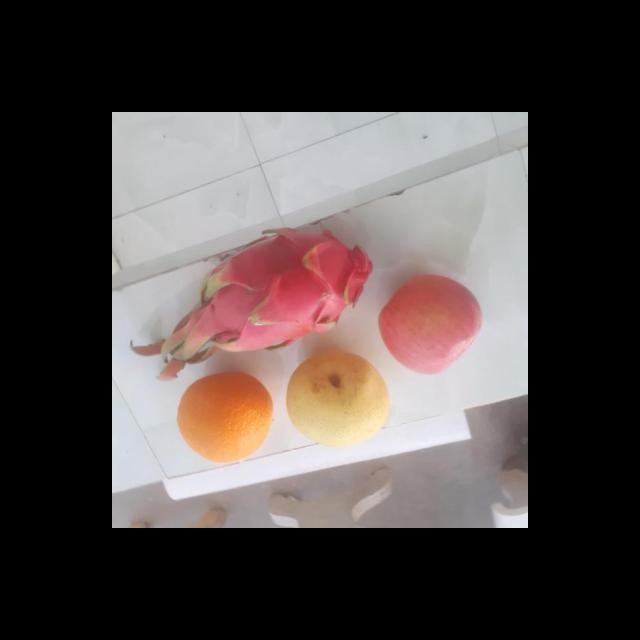apple: (378, 278, 485, 374)
orange: (175, 370, 278, 468)
pear: (284, 352, 396, 447)
pitaya: (190, 230, 381, 355)
